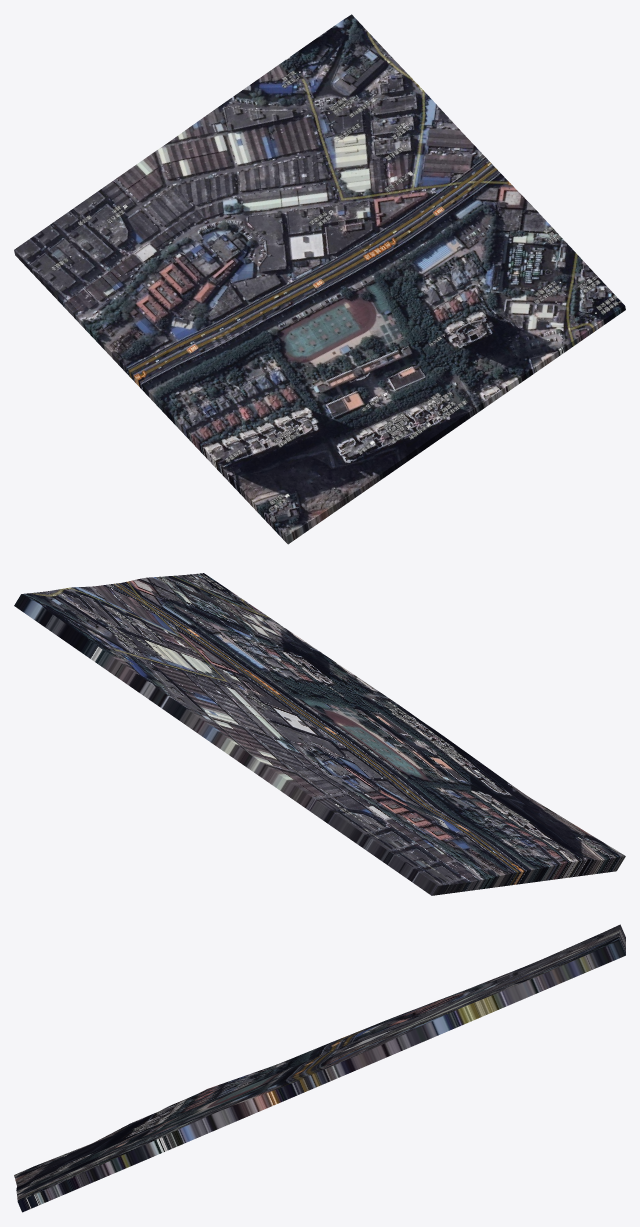
3 views of the same model, one above another, from view 1: azimuth 30°, elevation 25°; view 2: azimuth 150°, elevation 25°; view 3: azimuth 270°, elevation 25° (orthographic). The views are drawn at different scales.
Parts seen in each view (by area): view 1: 0_21_15; view 2: 0_21_15; view 3: 0_21_15.
Boxes of the visible parts, box(x1,y1,x2,y2) form: 0_21_15: box(14, 14, 625, 544); 0_21_15: box(14, 573, 625, 895); 0_21_15: box(14, 924, 625, 1212).
Bounding box in the file's own units: 597 × 440 × 550.
Materials: 1 (1 with a texture image).
